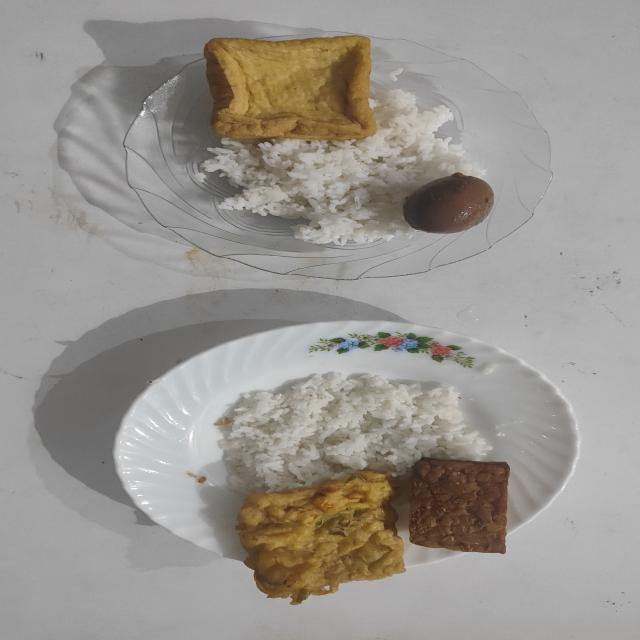nasi_putih: (202, 90, 484, 245), (220, 372, 490, 492)
tahu_goreng: (204, 36, 376, 140)
tempe_goreng: (408, 458, 510, 554)
